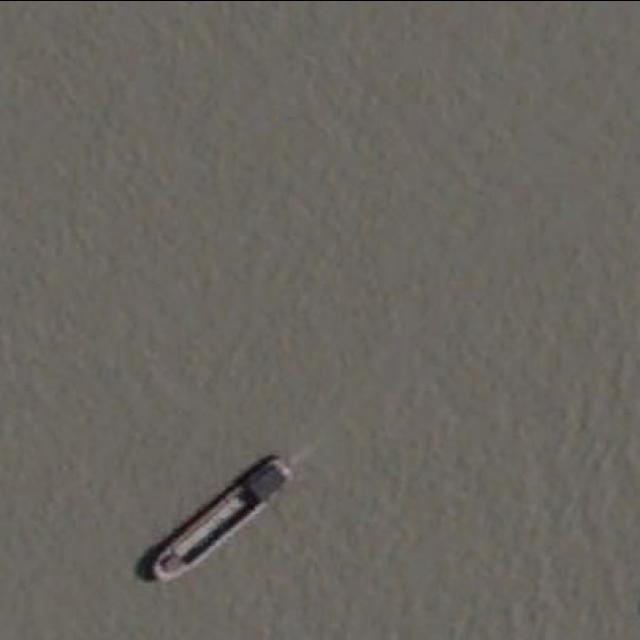ship: (142, 456, 292, 586)
